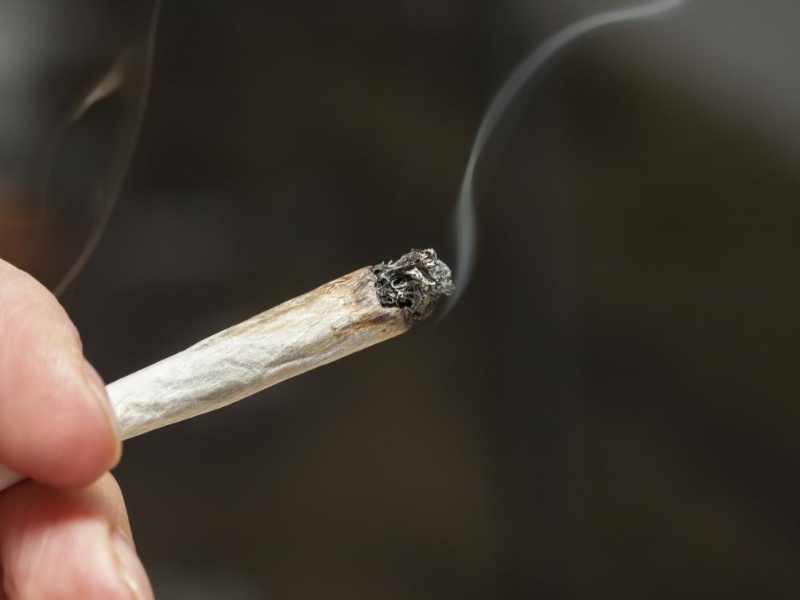smoke: (457, 140, 483, 277)
